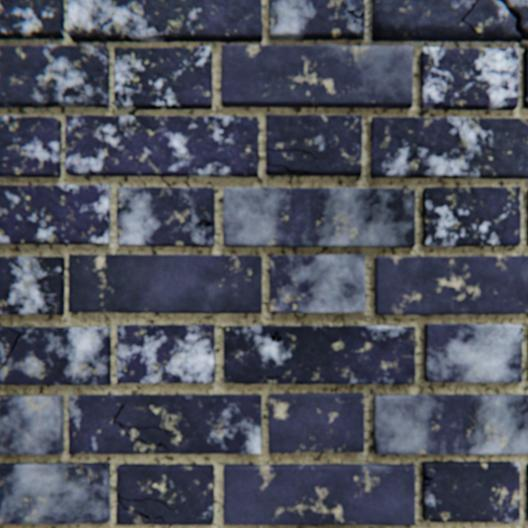brick: (221, 46, 412, 109), (66, 116, 259, 177), (224, 463, 414, 524), (70, 394, 261, 453), (224, 188, 414, 247), (69, 255, 262, 313), (224, 326, 414, 384), (370, 118, 527, 179), (373, 394, 527, 453), (375, 256, 527, 314), (70, 0, 262, 43), (0, 46, 110, 108), (0, 462, 111, 522), (0, 186, 111, 244), (0, 326, 111, 384), (115, 48, 212, 110), (420, 49, 517, 111), (117, 463, 214, 524), (422, 461, 519, 521), (266, 115, 361, 176), (422, 187, 519, 246), (118, 188, 215, 247), (424, 324, 521, 382), (269, 393, 363, 452), (118, 325, 215, 382), (270, 255, 365, 313), (269, 0, 364, 42), (0, 395, 65, 454), (0, 117, 62, 178), (0, 257, 66, 314), (0, 0, 65, 40), (0, 326, 19, 368), (522, 48, 527, 109), (526, 463, 527, 520), (526, 190, 527, 245)
broken_brick: (372, 0, 519, 43), (505, 0, 527, 42)
crack: (112, 403, 174, 448), (496, 0, 527, 51), (117, 493, 173, 521), (0, 327, 26, 370), (456, 0, 478, 35), (336, 0, 364, 26), (266, 148, 318, 160), (186, 214, 213, 236), (266, 163, 306, 174), (257, 376, 302, 383), (100, 14, 115, 30), (71, 18, 80, 38), (423, 471, 432, 484), (272, 331, 281, 342), (414, 143, 420, 156), (424, 517, 442, 520), (0, 377, 6, 384)
